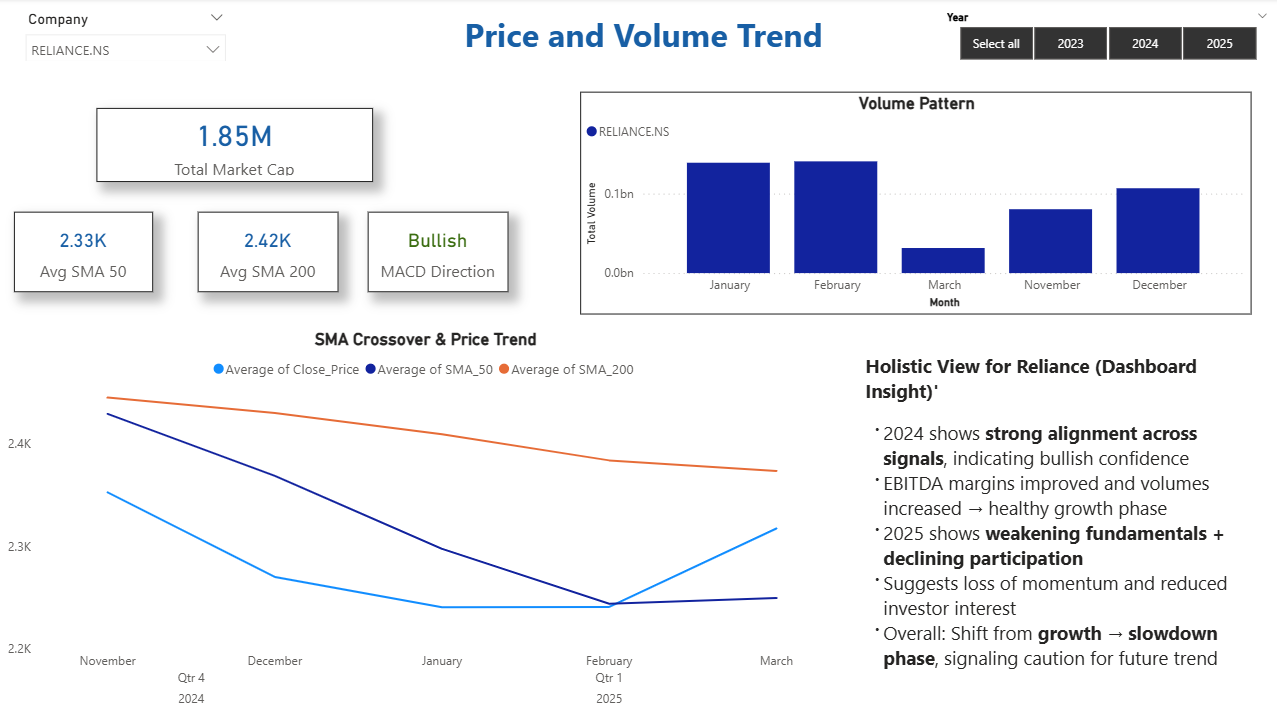

This screenshot's page, from the dashboard's own definition file:
{"tool":"powerbi","page":{"name":"Panel 5","canvas":[1280,720],"ordinal":5},"visuals":[{"type":"textbox","box":[411.7,9.6,469.3,57.6],"z":0},{"type":"card","fields":{"Values":["Sum(Dim_Company.Market_Cap_Cr)"]},"box":[101.7,110,275,73.3],"z":1000},{"type":"clusteredColumnChart","title":"Volume Pattern","fields":{"Category":["Dim_Date.Date.Variation.Date Hierarchy.Month","Dim_Date.Date.Variation.Date Hierarchy.Day"],"Y":["Sum(Fact_Technicals.Volume)"],"Series":["Dim_Company.Ticker"]},"box":[583.3,93.3,668.3,221.7],"z":2000},{"type":"textbox","box":[861.7,348.3,390,343.3],"z":4000},{"type":"slicer","fields":{"Values":["Dim_Company.Ticker"]},"box":[20.6,6.9,219.6,54.9],"z":5000},{"type":"slicer","fields":{"Values":["Dim_Date.Year"]},"box":[935.6,6.9,344.4,60.4],"z":6000},{"type":"card","fields":{"Values":["Avg(Fact_Technicals.SMA_50)"]},"box":[20,213.3,138.3,80],"z":7000},{"type":"card","fields":{"Values":["Avg(Fact_Technicals.SMA_200)"]},"box":[203.3,213.3,140,80],"z":8000},{"type":"card","fields":{"Values":["Fact_Technicals.MACD Signal Direction"]},"box":[371.7,213.3,140,80],"z":9000},{"type":"lineChart","title":"SMA Crossover & Price Trend","fields":{"Category":["Dim_Date.Date.Variation.Date Hierarchy.Year","Dim_Date.Date.Variation.Date Hierarchy.Quarter","Dim_Date.Date.Variation.Date Hierarchy.Month","Dim_Date.Date.Variation.Date Hierarchy.Day","Dim_Company.Ticker"],"Y":["Avg(Fact_Technicals.Close_Price)","Avg(Fact_Technicals.SMA_50)","Avg(Fact_Technicals.SMA_200)"]},"box":[8.3,330,841.7,390],"z":10000}]}

Visuals, with their boxes in screenshot pixels (x1, y1, x2, y2), scaled from the page's 1280x720 canvas onto the 1277x717 screenshot:
textbox: bbox=(411, 10, 879, 67)
card - Sum(Dim_Company.Market_Cap_Cr): bbox=(101, 110, 376, 183)
"Volume Pattern" clusteredColumnChart: bbox=(582, 93, 1249, 314)
textbox: bbox=(860, 347, 1249, 689)
slicer - Dim_Company.Ticker: bbox=(21, 7, 240, 62)
slicer - Dim_Date.Year: bbox=(933, 7, 1276, 67)
card - Avg(Fact_Technicals.SMA_50): bbox=(20, 212, 158, 292)
card - Avg(Fact_Technicals.SMA_200): bbox=(203, 212, 342, 292)
card - Fact_Technicals.MACD Signal Direction: bbox=(371, 212, 511, 292)
"SMA Crossover & Price Trend" lineChart: bbox=(8, 329, 848, 716)
